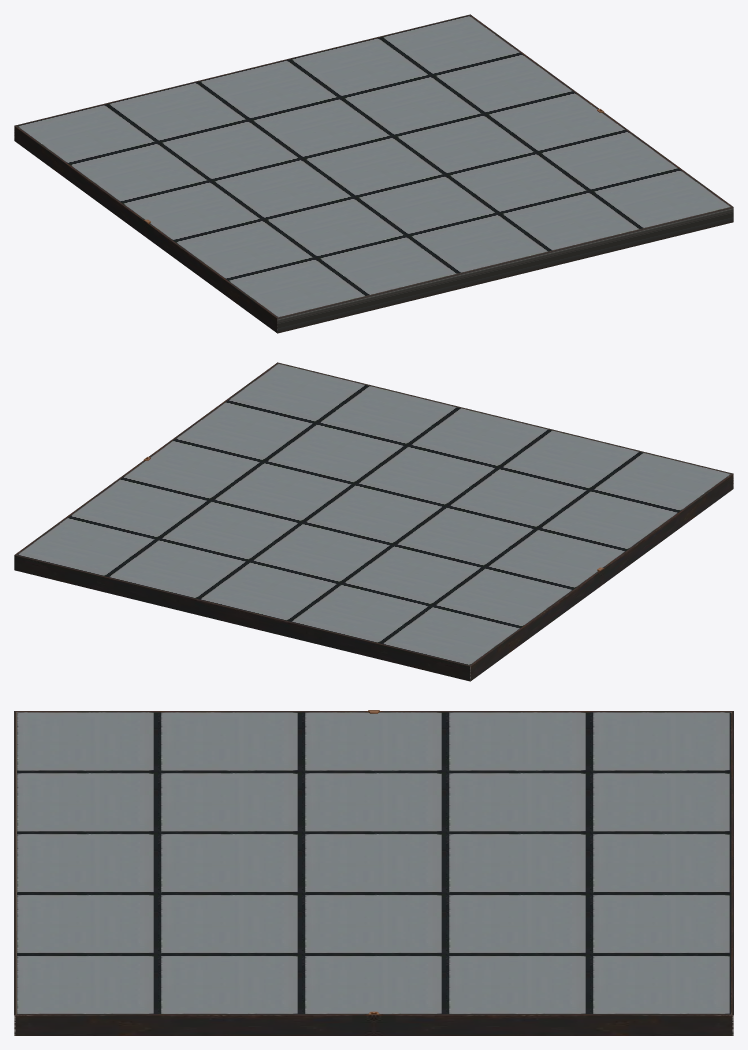
Rendered from discofloor.largetiles.deployed.glb.
The picture shows the model from 3 angles, top to bottom: view 1: azimuth 30°, elevation 25°; view 2: azimuth 150°, elevation 25°; view 3: azimuth 270°, elevation 25°; orthographic projection. The views are drawn at different scales.
Visible parts, largest first — view 1: DiscoFloor, dancefloor_frame_LOD0; view 2: DiscoFloor, dancefloor_frame_LOD0; view 3: DiscoFloor, dancefloor_frame_LOD0.
Part boxes in pixels (left/top/right/bottom): DiscoFloor: left=15, top=14, right=730, bottom=318; dancefloor_frame_LOD0: left=14, top=14, right=733, bottom=333; DiscoFloor: left=17, top=362, right=732, bottom=666; dancefloor_frame_LOD0: left=14, top=362, right=733, bottom=681; DiscoFloor: left=14, top=711, right=733, bottom=1014; dancefloor_frame_LOD0: left=14, top=710, right=733, bottom=1035.
Size of the model in its own units: 2.5 by 0.0827 by 2.5.
2 materials, 2 textured.
